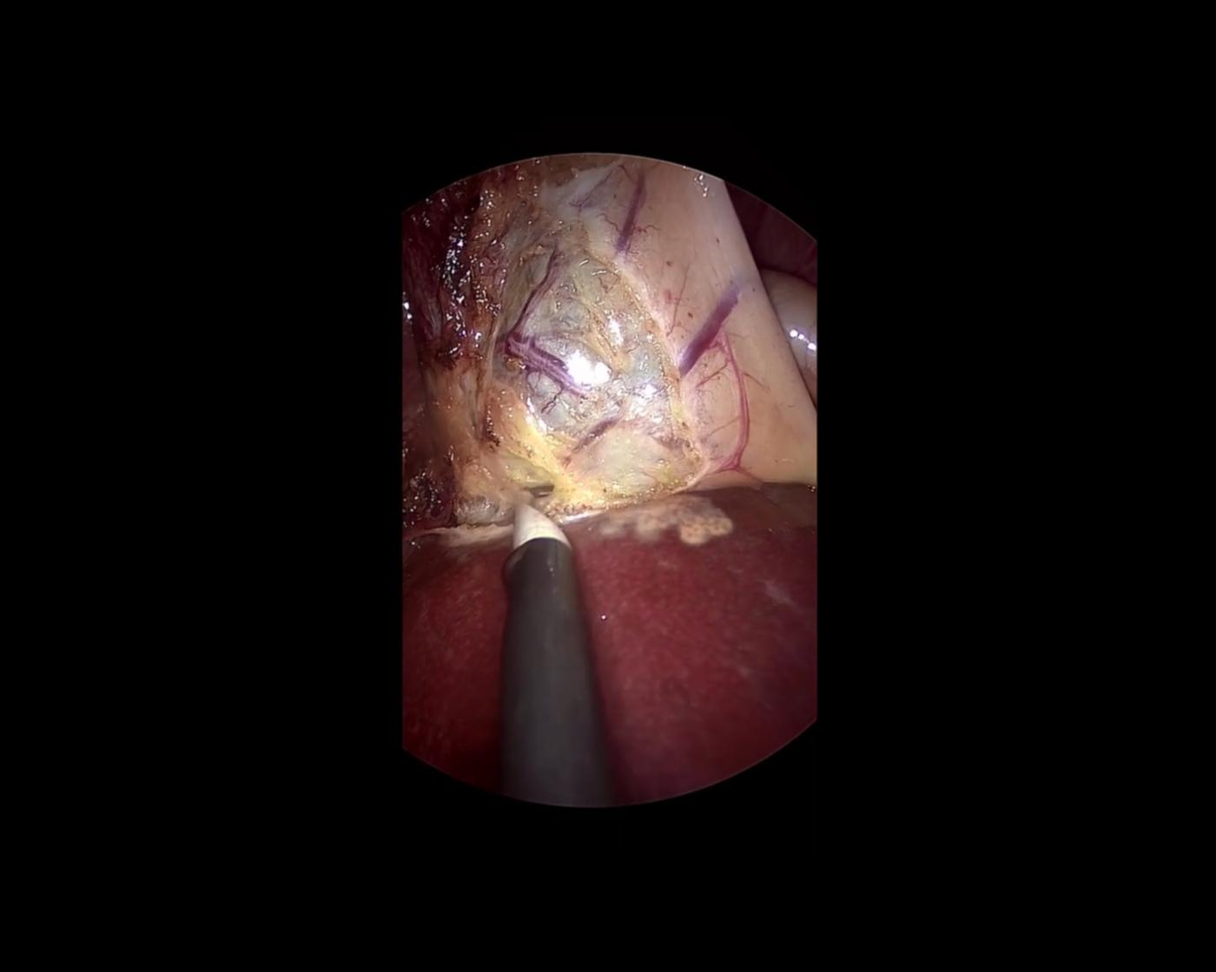Cautery: (440, 480, 620, 830)
Gallbladder: (389, 127, 839, 534)
Liver: (553, 479, 835, 807), (396, 532, 512, 787)
